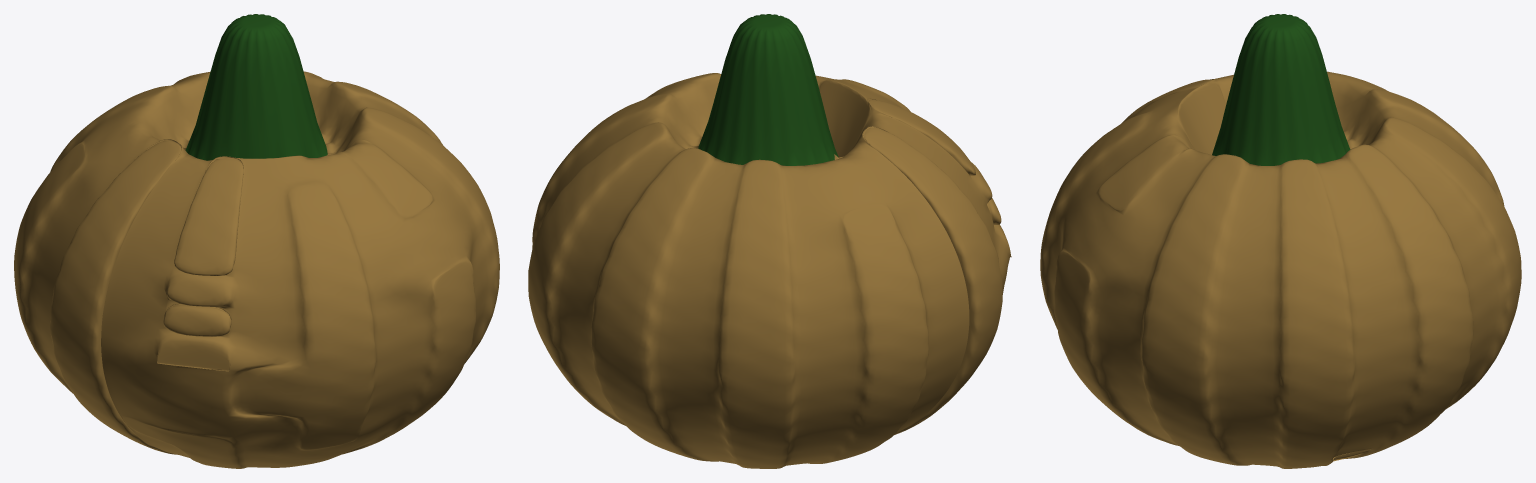
File: pumpkin.fbx
3 views of the same model, side by side, from view 1: azimuth 30°, elevation 25°; view 2: azimuth 150°, elevation 25°; view 3: azimuth 270°, elevation 25° (orthographic).
Visible parts, largest first — view 1: pSphere1; view 2: pSphere1; view 3: pSphere1.
Boxes of the visible parts, x1=… form: pSphere1: x1=14, y1=14, x2=499, y2=468; pSphere1: x1=528, y1=14, x2=1011, y2=468; pSphere1: x1=1040, y1=14, x2=1521, y2=468.
Size of the model in its own units: 5.99 by 5.72 by 5.95.
